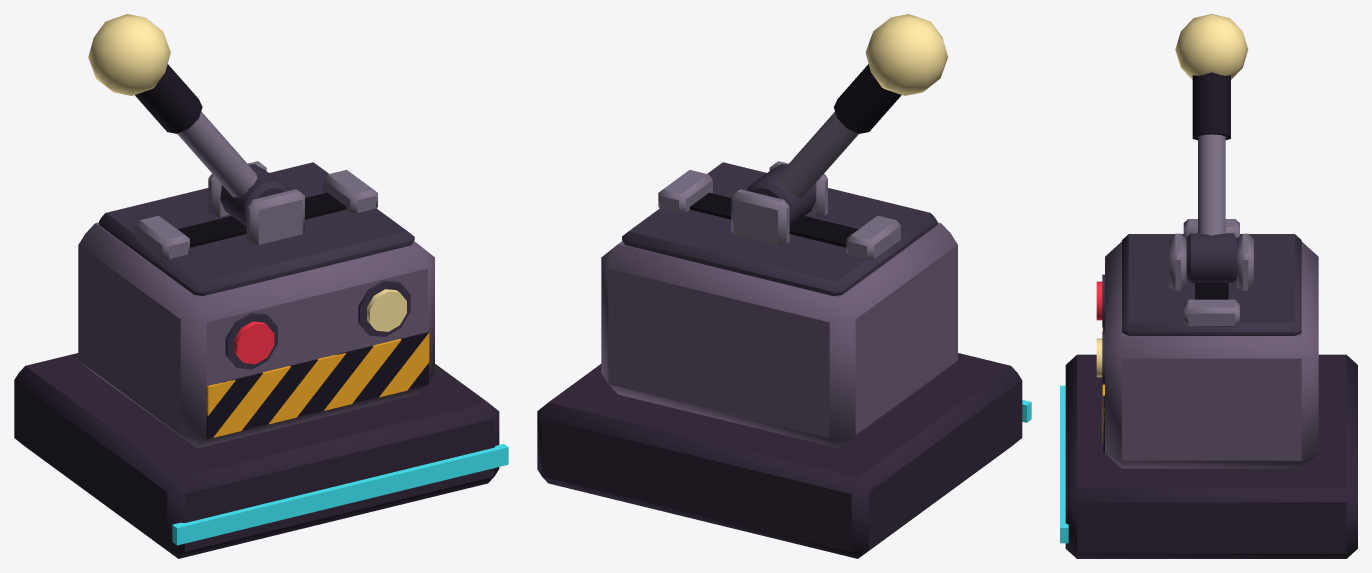
The model's file is switch__lower.glb.
3 renders of one model, left to right at view 1: azimuth 30°, elevation 25°; view 2: azimuth 150°, elevation 25°; view 3: azimuth 270°, elevation 25°, orthographic. The views are drawn at different scales.
Visible parts, largest first — view 1: Base, Lever; view 2: Base, Lever; view 3: Base, Lever.
Boxes of the visible parts, x1=… form: Base: x1=14, y1=161, x2=508, y2=558; Lever: x1=88, y1=14, x2=289, y2=226; Base: x1=537, y1=161, x2=1031, y2=558; Lever: x1=746, y1=14, x2=947, y2=226; Base: x1=1060, y1=219, x2=1357, y2=558; Lever: x1=1175, y1=14, x2=1248, y2=282.
Bounding box in the file's own units: 0.6 × 0.8272 × 0.53.
